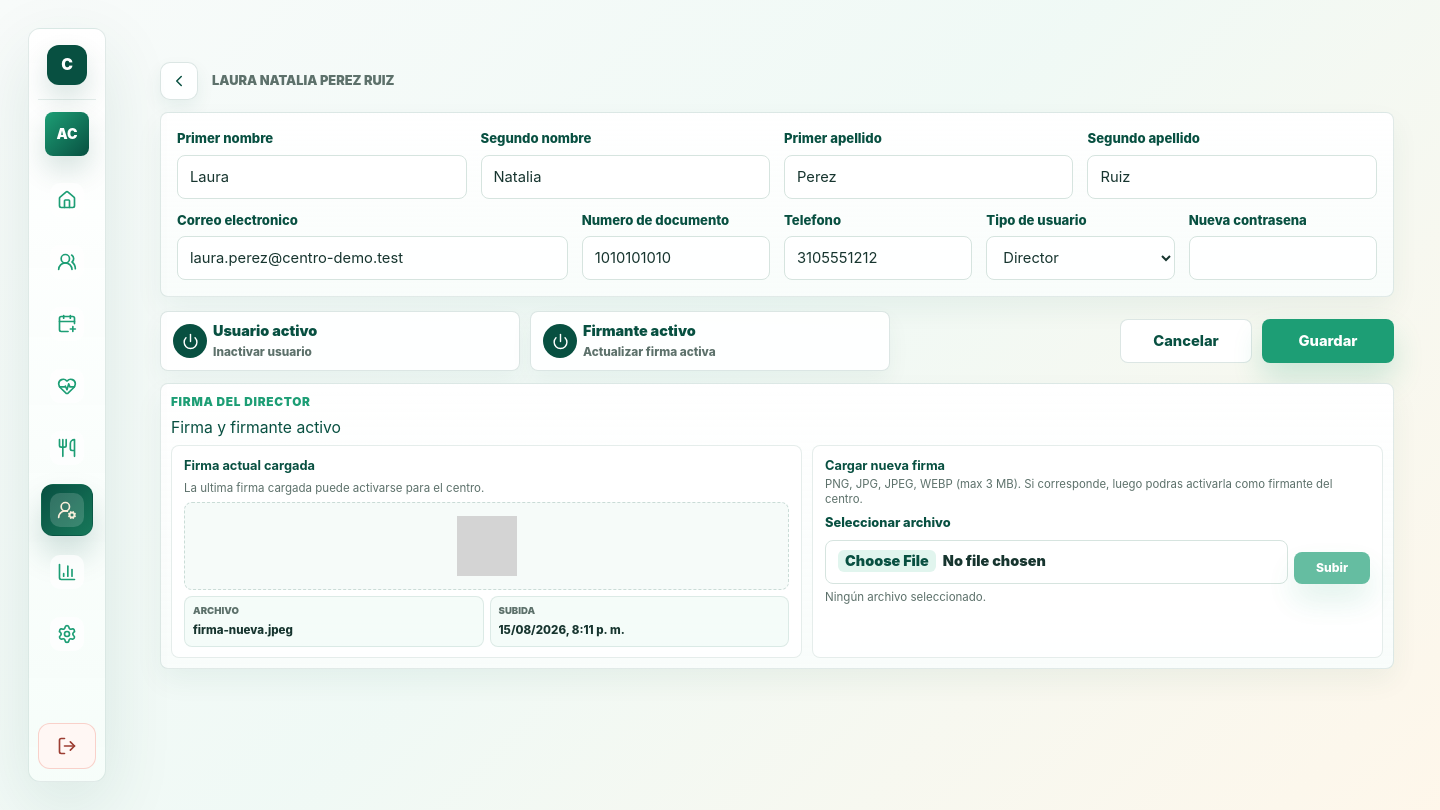
Scenario: App empleados flow › lets the active director replace a missing or outdated signature version
The width and height of the screenshot is (1440, 810).
Click the button "Firmante activo Actualizar firma activa".
click(560, 341)  # box [530,311,890,371]
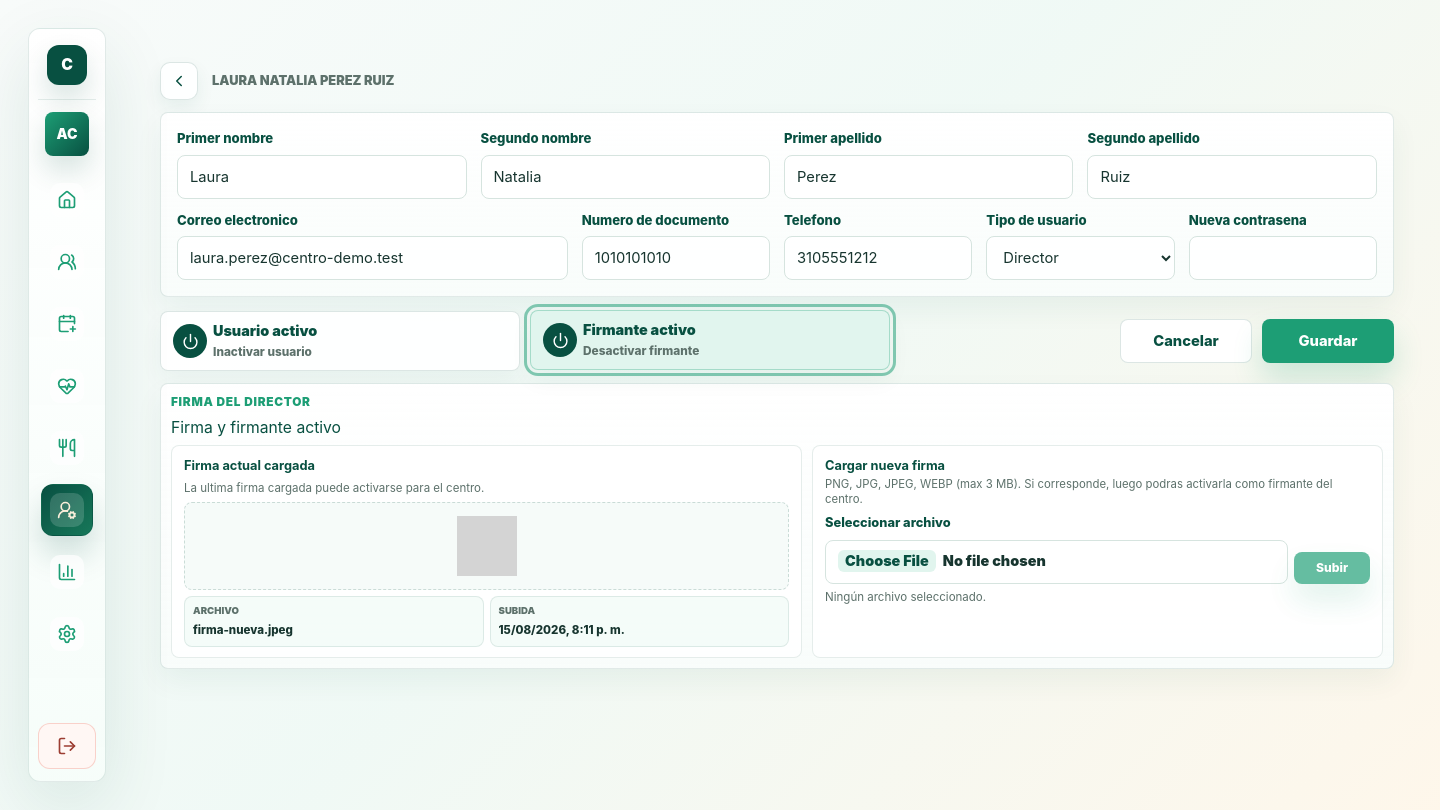
Expected: the button "Firmante activo Desactivar firmante" is shown, [530,310,890,370]
